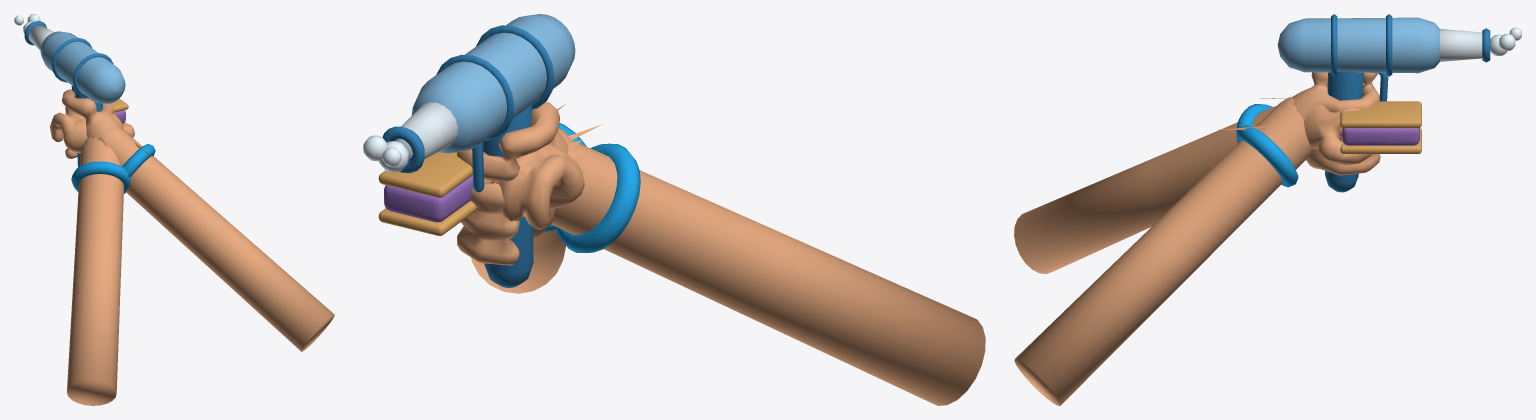
File: ice.glb
3 renders of one model, left to right at view 1: azimuth 30°, elevation 25°; view 2: azimuth 150°, elevation 25°; view 3: azimuth 270°, elevation 25°, orthographic. The views are drawn at different scales.
Visible parts, largest first — view 1: R, L; view 2: L, R; view 3: R, L.
Boxes of the visible parts, box(x1,y1,x2,y2) form: R: box(14, 14, 334, 351); L: box(50, 89, 134, 405); L: box(378, 140, 985, 405); R: box(363, 14, 602, 293); R: box(1014, 14, 1521, 405); L: box(1014, 83, 1421, 273).
Bounding box in the file's own units: 0.5904 × 0.5264 × 0.7458.
